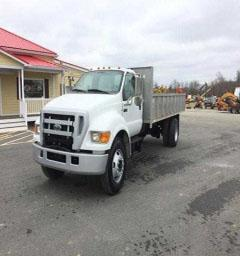truck: (27, 42, 196, 210)
